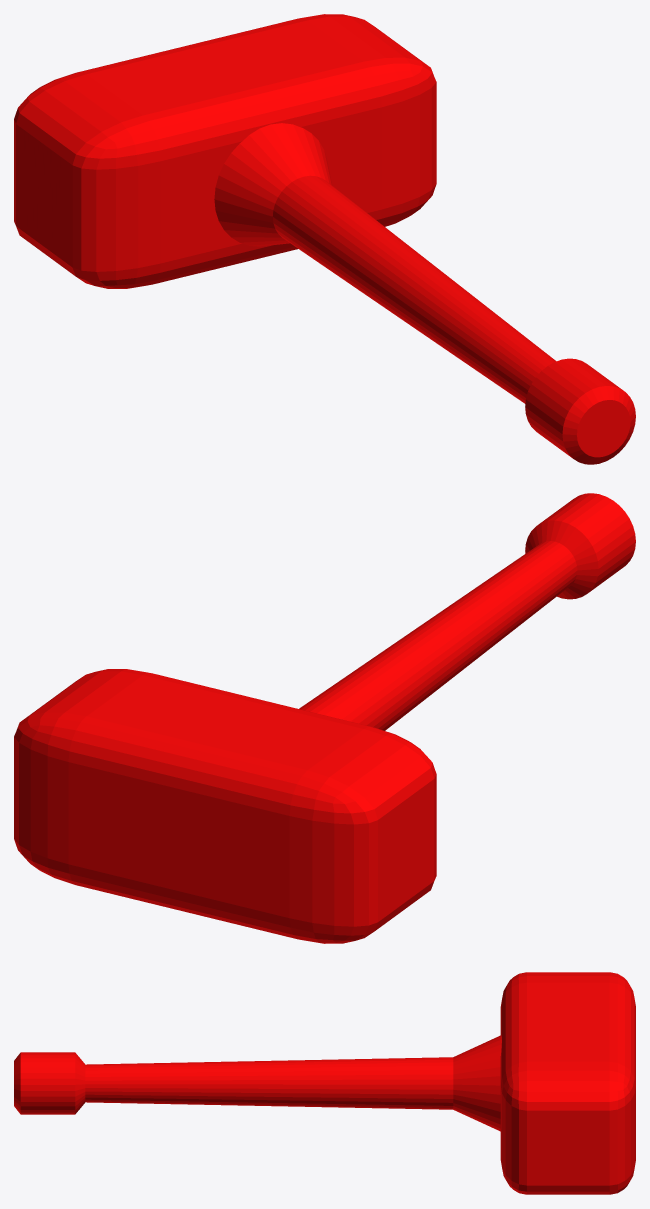
The model's file is item-toy-hammer.glb.
3 renders of one model, top to bottom at view 1: azimuth 30°, elevation 25°; view 2: azimuth 150°, elevation 25°; view 3: azimuth 270°, elevation 25°, orthographic. The views are drawn at different scales.
Bounding box in the file's own units: 0.1612 × 0.0712 × 0.3276.
